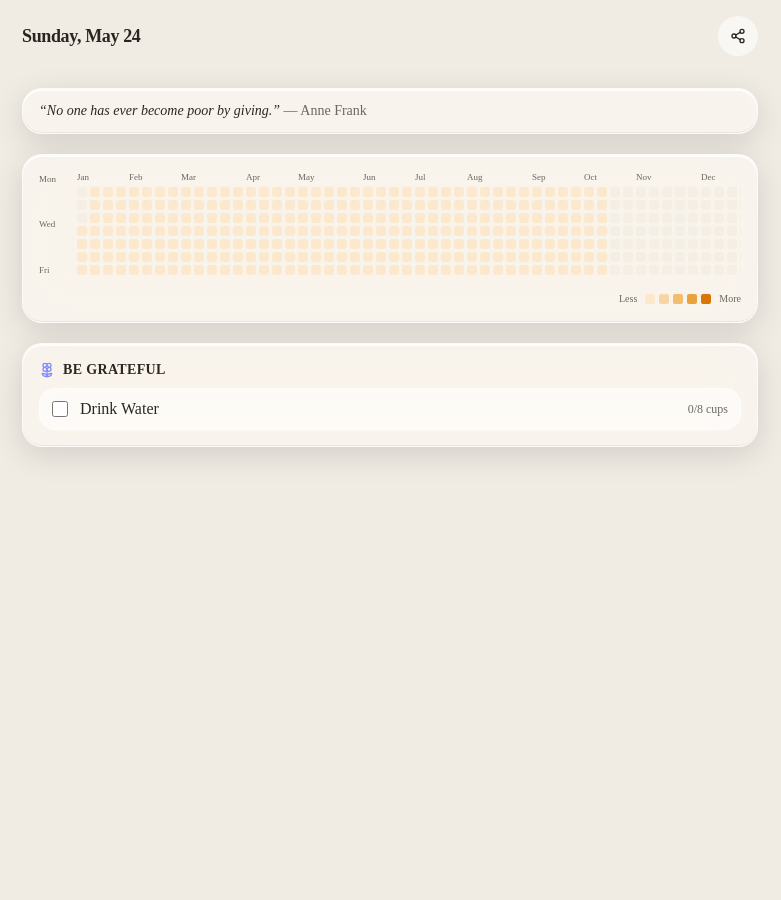
Scenario: NoteScreen › celebrates when the checkbox completes a habit (A2)
Click the checkbox named "drink water": (60,409) [52,401,68,417]
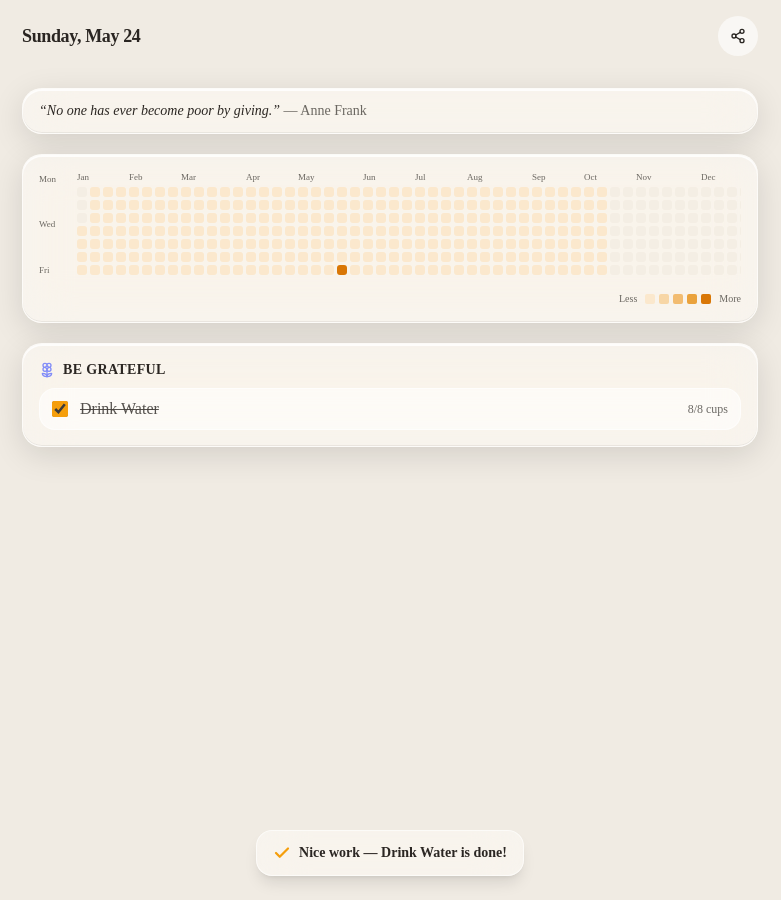
Check: the checkbox named "drink water" is checked, box [52,401,68,417]
Check: the message with test id "completion-toast" reads "Nice work — Drink Water is done!", box [256,830,524,876]
